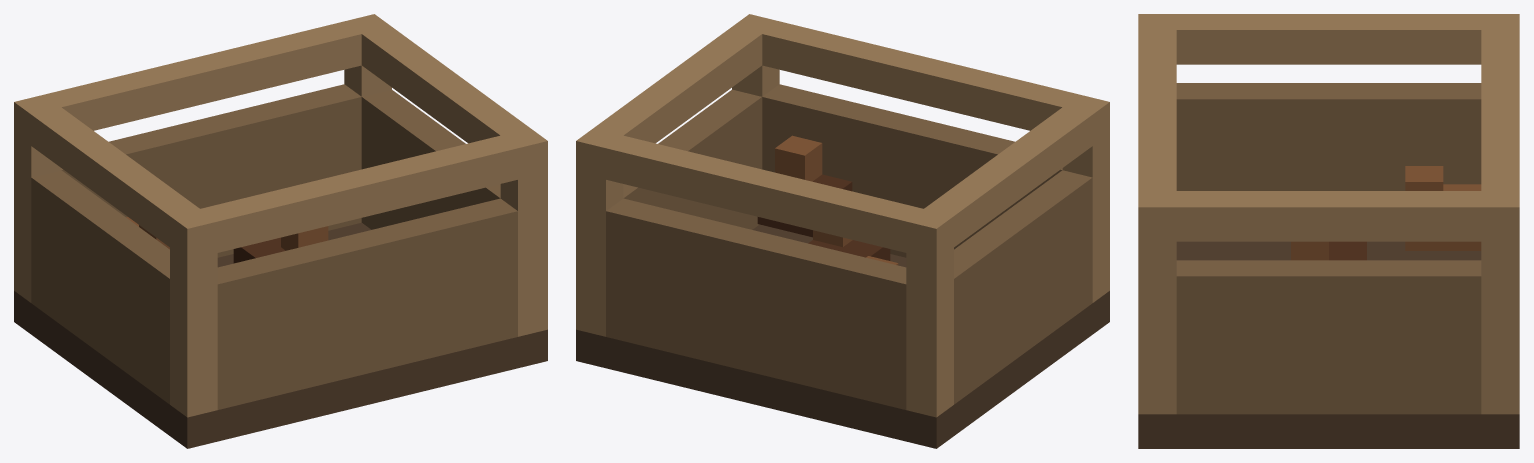
Rendered from apple_seed_low.glb.
The picture shows the model from 3 angles, left to right: view 1: azimuth 30°, elevation 25°; view 2: azimuth 150°, elevation 25°; view 3: azimuth 270°, elevation 25°; orthographic projection. The views are drawn at different scales.
Parts seen in each view (by area): view 1: VoxelVisual; view 2: VoxelVisual; view 3: VoxelVisual.
Boxes of the visible parts, x1,y1,x2,y2 form: VoxelVisual: [14, 14, 547, 448]; VoxelVisual: [576, 14, 1109, 448]; VoxelVisual: [1138, 14, 1519, 448].
Size of what is drawn, in the model's own units: 0.75 by 0.4375 by 0.625.
